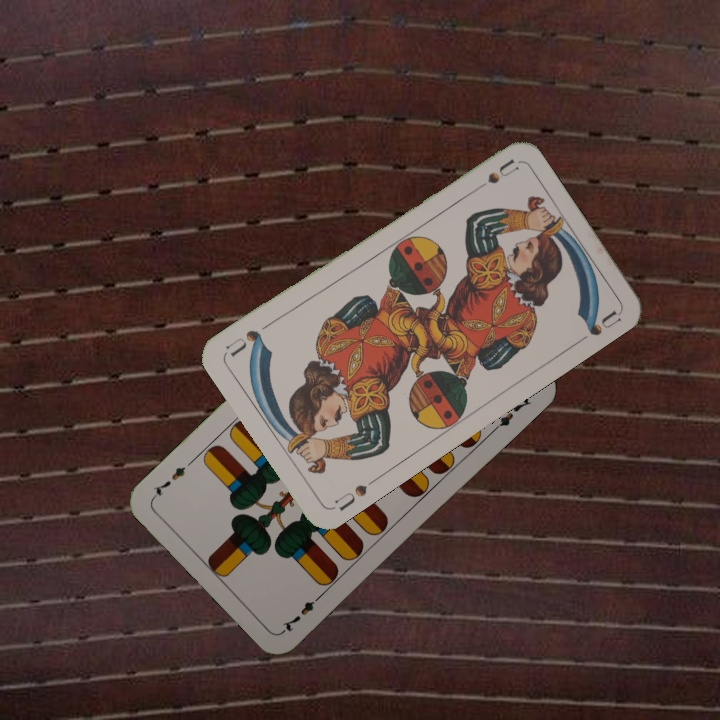E7: (278, 589, 326, 635)
SU: (465, 155, 520, 195), (328, 473, 381, 513)
